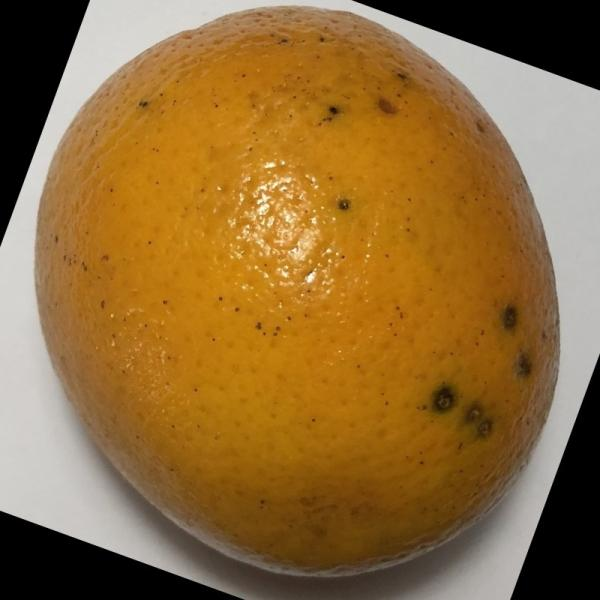Machas negras: (22, 2, 576, 587)
